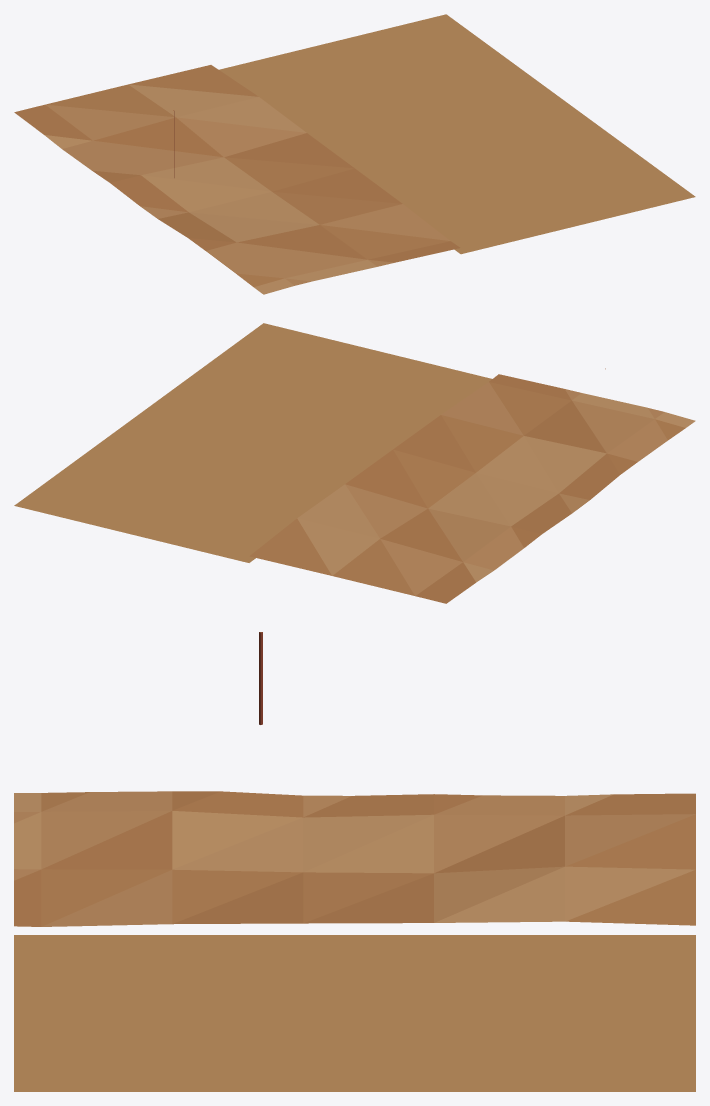
3 views of the same model, one above another, from view 1: azimuth 30°, elevation 25°; view 2: azimuth 150°, elevation 25°; view 3: azimuth 270°, elevation 25° (orthographic). The views are drawn at different scales.
Visible parts, largest first — view 1: baked; view 2: baked; view 3: baked.
Part boxes in pixels (left/top/right/bottom): baked: left=14, top=14, right=695, bottom=294; baked: left=14, top=323, right=695, bottom=603; baked: left=14, top=632, right=695, bottom=1091.
Bounding box in the file's own units: 62.5 × 17.35 × 62.5.
